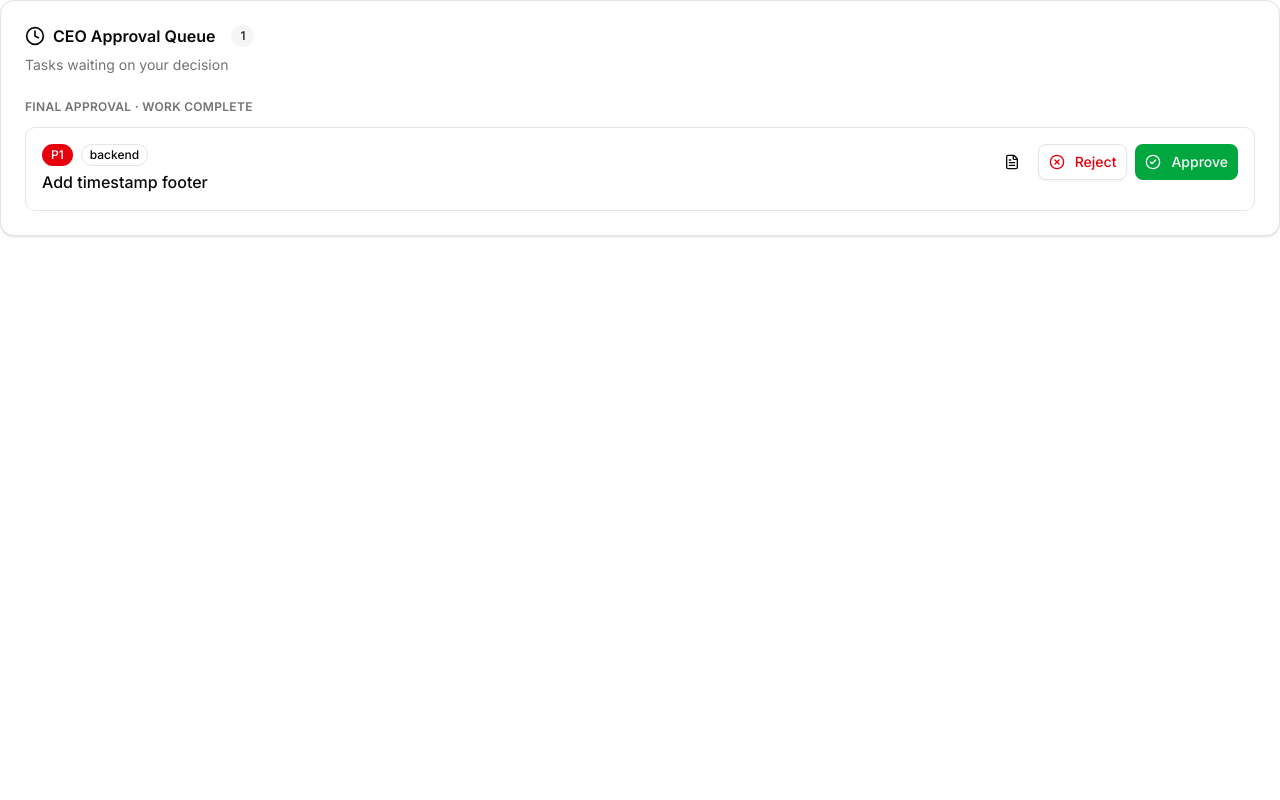
Scenario: CeoApprovalQueue — Approve dialog notes label (F081) › the Approve dialog tells the CEO notes are required (>= 20 chars), not optional
# Open the Approve dialog for the one pending task.
Click the button "Approve": coordinates (1187, 162) [1135,144,1238,180]
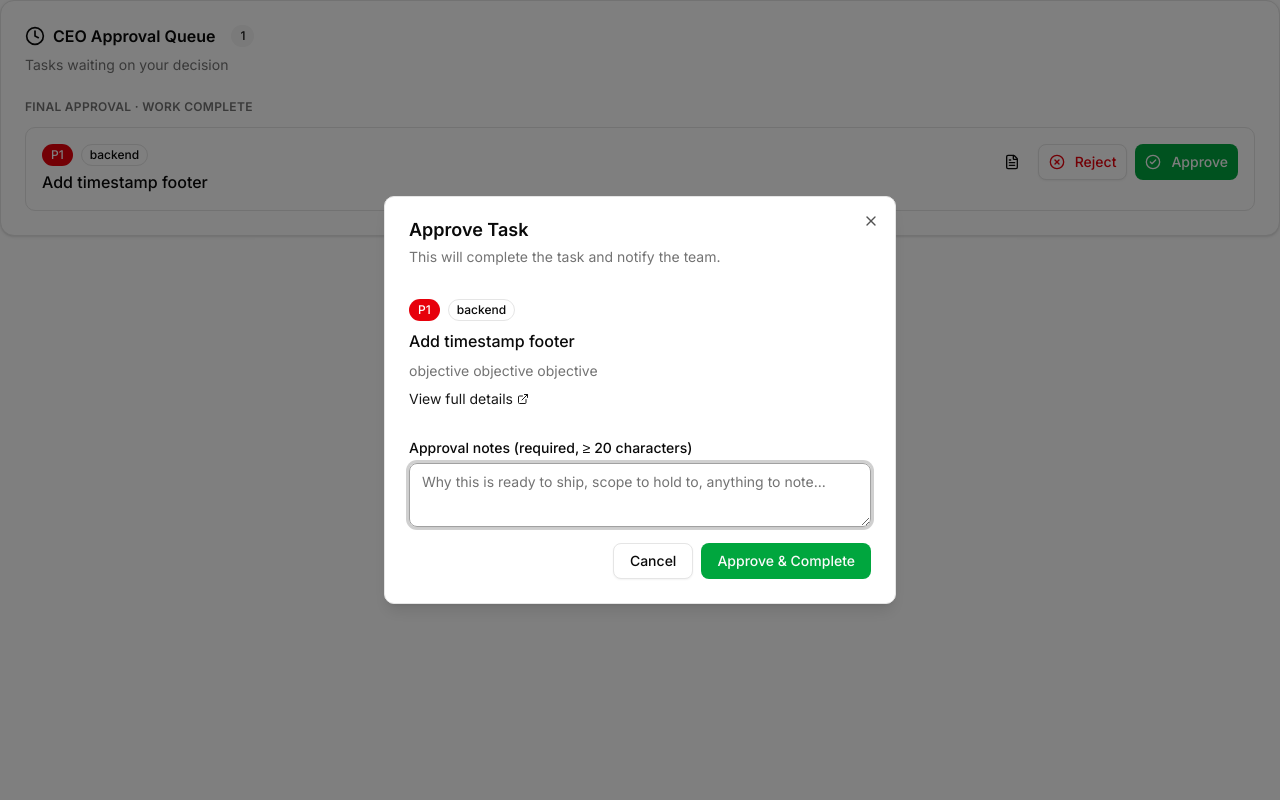
Expected: the label "Approval notes (required, ≥ 20 characters)" is shown, [409,439,692,456]
